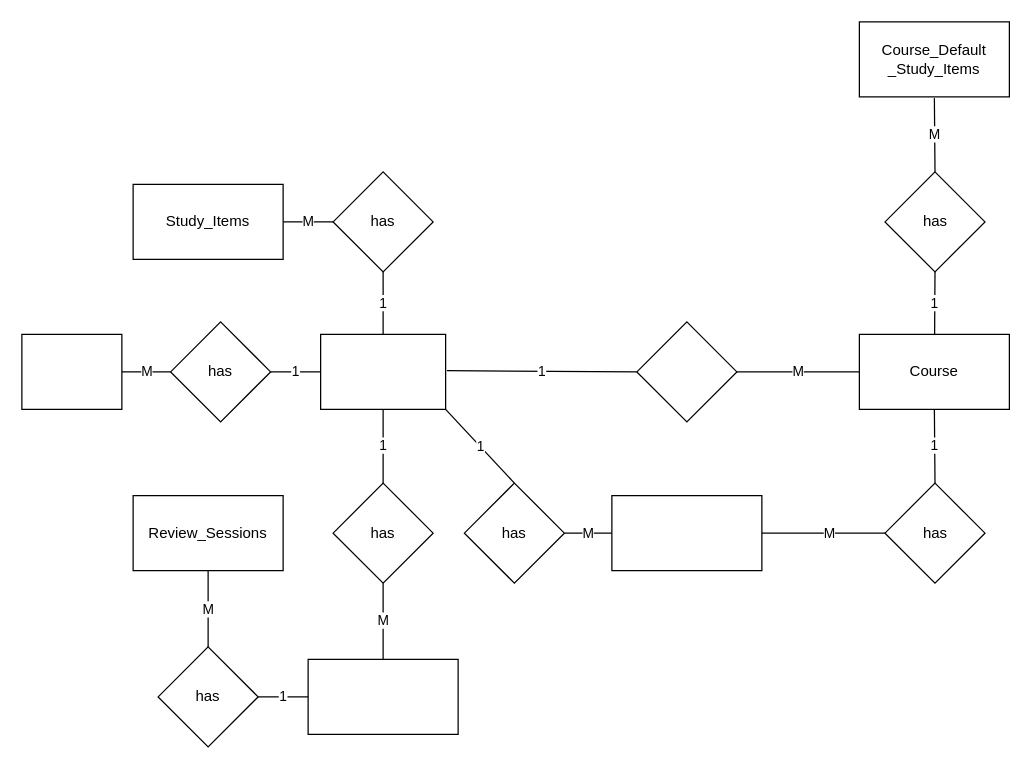
The diagram is 1031 pixels wide and 769 high, and some of its shapes have lost their labels. The box of each missing label's shape, as (x1, y1, x2, y2) in pixels:
Chat Messages: (21, 333, 122, 409)
Register: (636, 321, 737, 422)
Review_Items: (307, 658, 458, 734)
User: (319, 333, 446, 409)
User_Course Registration Record: (611, 494, 762, 571)
